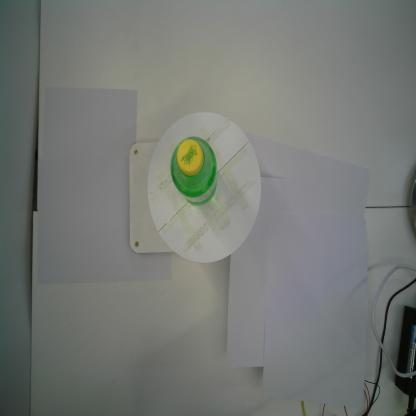Drink: (168, 134, 220, 209)
